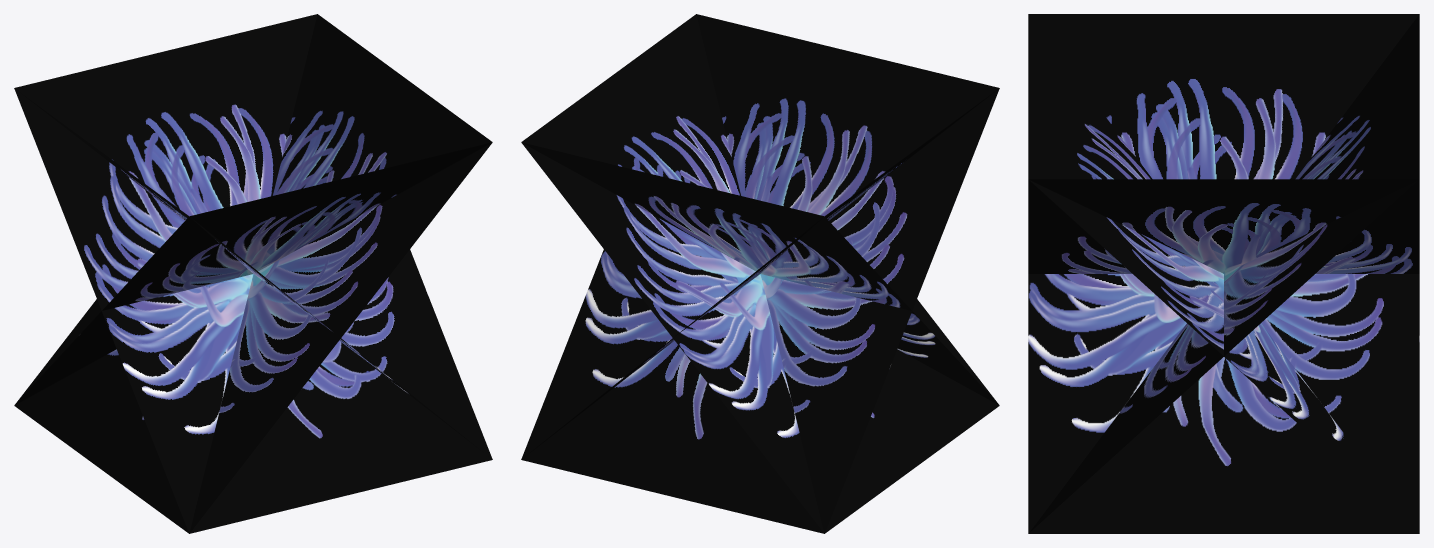
File: anemone.obj
3 views of the same model, side by side, from view 1: azimuth 30°, elevation 25°; view 2: azimuth 150°, elevation 25°; view 3: azimuth 270°, elevation 25° (orthographic). The views are drawn at different scales.
Bounding box in the file's own units: 2 × 2 × 2.
1 material, 1 textured.
